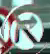Don't turn right: (1, 0, 45, 53)
